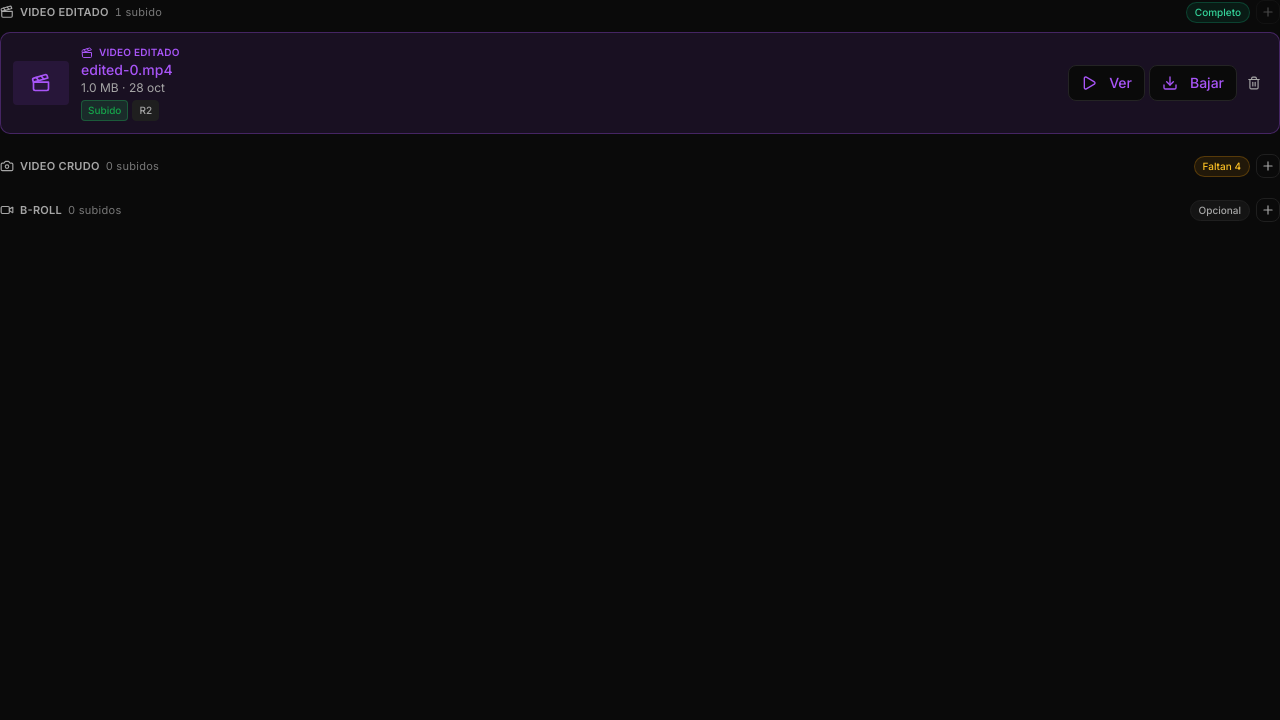
Scenario: IdeaVideoPanel — borrar con confirmación propia + deshacer (no window.confirm) › confirming archives (never destroys) and removes the card instantly, with an undo toast
Click the button named "Eliminar" at (1254, 83), box [1241,70,1267,96]
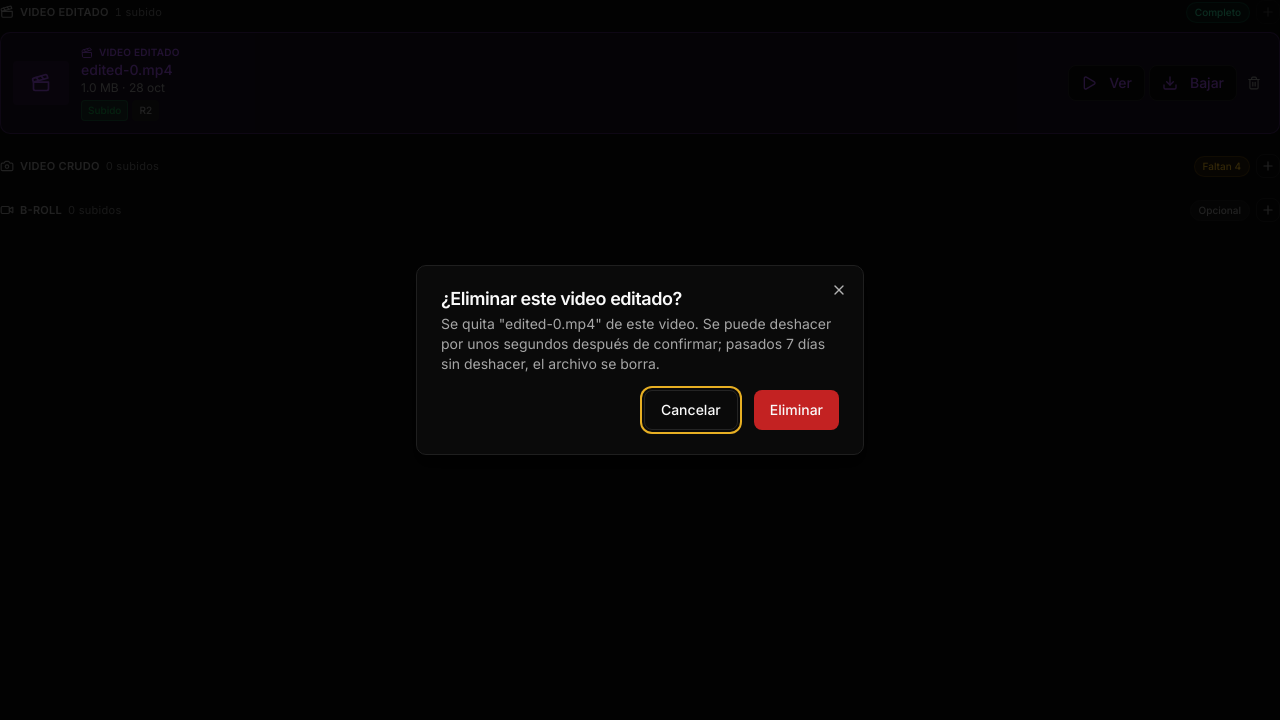
Click the button "Eliminar" at (796, 410), box [754,390,839,430]
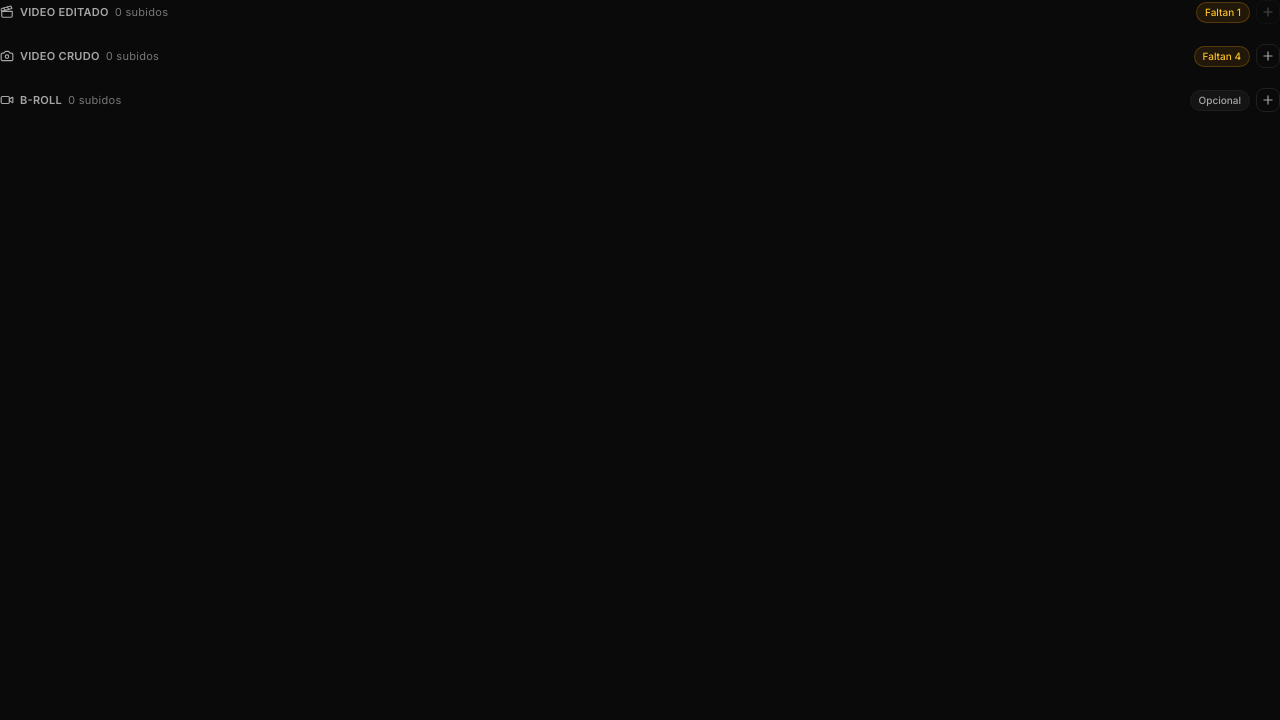
Result: the text "edited-0.mp4" is gone
